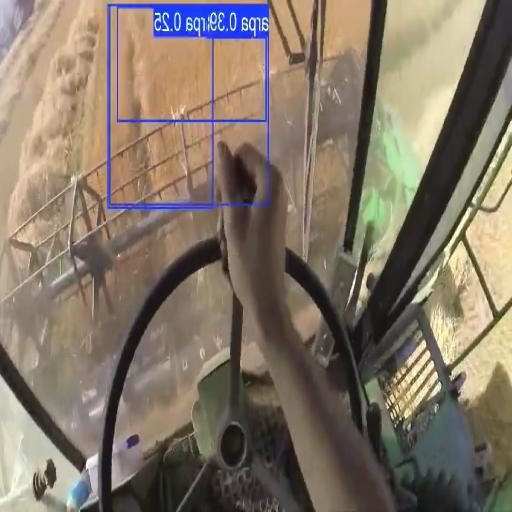arpa: (1, 0, 108, 193), (379, 0, 485, 127), (110, 10, 211, 118), (322, 0, 370, 79), (214, 43, 263, 91), (272, 0, 313, 49), (272, 20, 288, 73)
